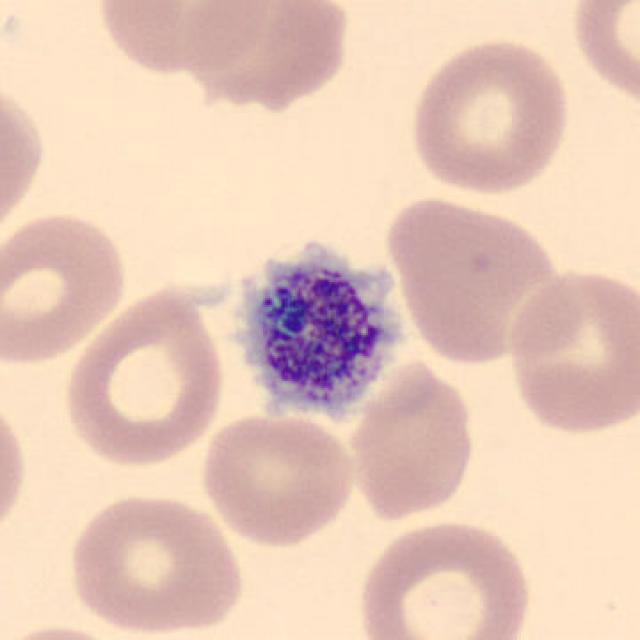Lymphocyte: (217, 224, 416, 437)
RBC: (57, 280, 233, 471), (380, 192, 560, 369), (404, 32, 576, 197), (64, 488, 249, 636), (502, 261, 638, 439), (343, 356, 480, 526), (352, 516, 538, 640), (196, 409, 359, 550), (0, 206, 132, 368), (169, 0, 355, 113), (89, 0, 275, 78), (0, 72, 50, 247), (565, 0, 639, 116), (0, 388, 32, 550), (0, 620, 138, 640)
